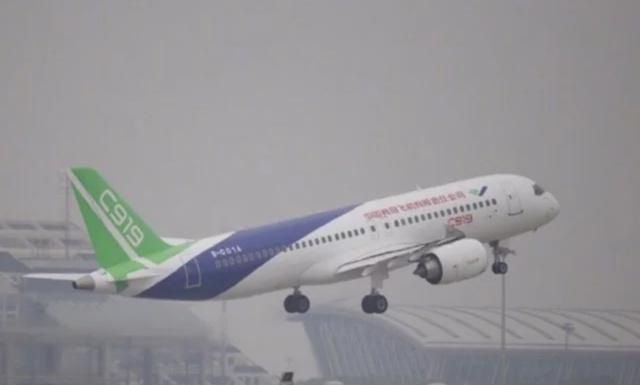airplane: (31, 156, 565, 311)
